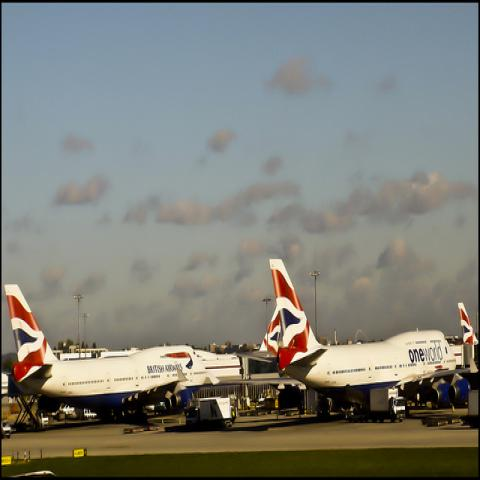truck: (184, 396, 232, 431), (370, 388, 406, 426)
